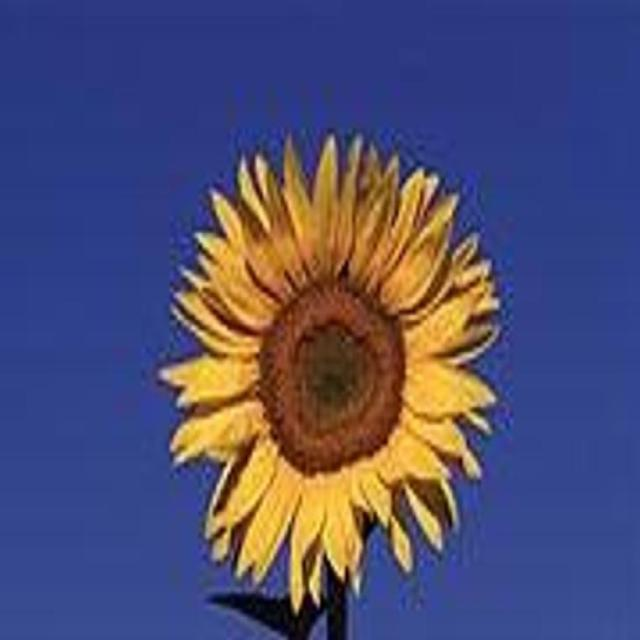sunflower: (148, 129, 507, 616)
